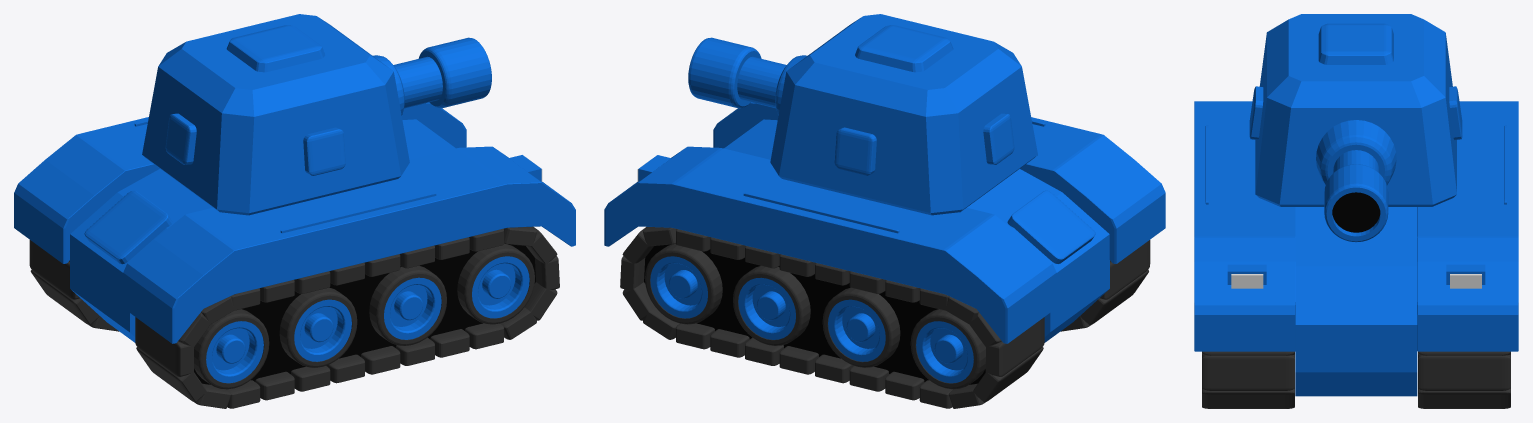
Rendered from tank.glb.
The picture shows the model from 3 angles, left to right: view 1: azimuth 30°, elevation 25°; view 2: azimuth 150°, elevation 25°; view 3: azimuth 270°, elevation 25°; orthographic projection. The views are drawn at different scales.
Visible parts, largest first — view 1: Cube.034, Cube, Cube.035, Cube.005, Cube.033, Cylinder, Cube.064, Cube.001, Cylinder.007, Cylinder.001, Cylinder.005, Cylinder.010 (+34 smaller); view 2: Cube.035, Cube, Cube.034, Cube.005, Cube.036, Cylinder, Cube.064, Cube.001, Cylinder.014, Cylinder.020, Cylinder.016, Cylinder.011 (+34 smaller); view 3: Cube, Cube.005, Cube.034, Cube.035, Cylinder, Cube.030, Cube.039, Cube.001, Cube.029, Cube.040, Cylinder.021, Cube.004 (+8 smaller).
Boxes of the visible parts, x1,y1,x2,y2 form: Cube.034: [123, 146, 575, 343]; Cube: [142, 14, 409, 215]; Cube.035: [14, 102, 466, 263]; Cube.005: [70, 119, 455, 342]; Cube.033: [242, 249, 482, 381]; Cylinder: [373, 37, 491, 115]; Cube.064: [84, 190, 172, 264]; Cube.001: [226, 25, 325, 72]; Cylinder.007: [472, 256, 529, 318]; Cylinder.001: [206, 321, 263, 383]; Cylinder.005: [294, 299, 351, 361]; Cylinder.010: [384, 277, 441, 339]; Cube.035: [604, 146, 1056, 343]; Cube: [770, 14, 1037, 215]; Cube.034: [713, 102, 1165, 263]; Cube.005: [724, 119, 1109, 342]; Cube.036: [696, 249, 938, 381]; Cylinder: [688, 37, 807, 115]; Cube.064: [1007, 190, 1095, 263]; Cube.001: [855, 25, 953, 72]; Cylinder.014: [650, 256, 707, 318]; Cylinder.020: [916, 321, 973, 383]; Cylinder.016: [828, 299, 885, 361]; Cylinder.011: [738, 277, 795, 339]; Cube: [1255, 14, 1456, 206]; Cube.005: [1295, 207, 1417, 396]; Cube.034: [1194, 101, 1295, 351]; Cube.035: [1417, 101, 1518, 351]; Cylinder: [1316, 120, 1396, 242]; Cube.030: [1202, 354, 1294, 390]; Cube.039: [1418, 354, 1510, 390]; Cube.001: [1318, 23, 1393, 64]; Cube.029: [1202, 388, 1294, 408]; Cube.040: [1418, 388, 1510, 408]; Cylinder.021: [1332, 192, 1380, 232]; Cube.004: [1249, 86, 1263, 140].
Size of the model in its own units: 5.22 by 3.5 by 3.56.
